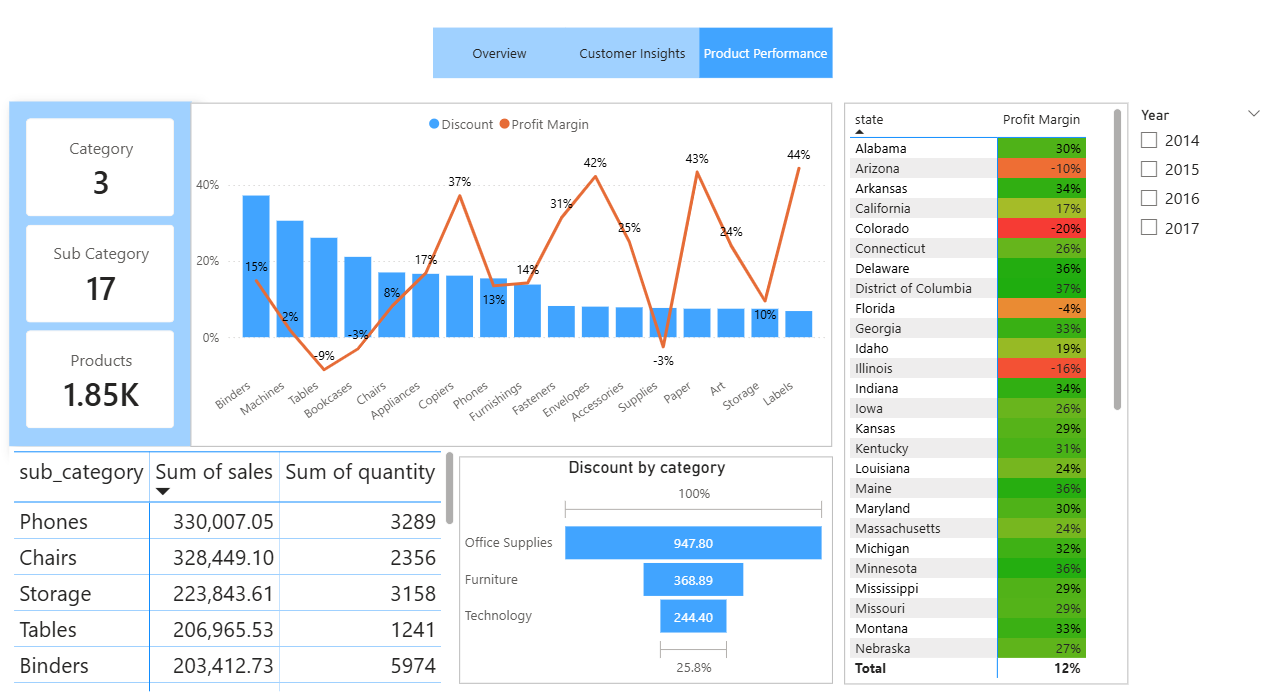

The dashboard page shown, as its layout file describes it:
{"tool":"powerbi","page":{"name":"Product Performance","canvas":[1280,720],"ordinal":2},"visuals":[{"type":"cardVisual","fields":{"Data":["Count(orders.category)","Count(orders.sub_category)","Count(orders.product_name)"]},"box":[15.9,117.4,214.5,584.1],"z":0},{"type":"pivotTable","fields":{"Rows":["orders.sub_category"],"Values":["Sum(orders.sales)","Sum(orders.quantity)"]},"box":[237.7,117.4,444.9,242],"z":1000},{"type":"clusteredColumnChart","title":"Profit by sub_category","fields":{"Category":["orders.sub_category"],"Y":["Sum(orders.profit)"]},"box":[237.8,372,664.6,329.3],"z":2000},{"type":"funnel","title":"Discount by category","fields":{"Category":["orders.category"],"Y":["Sum(orders.discount)"]},"box":[698.6,118.8,378.3,242],"z":3000},{"type":"slicer","fields":{"Values":["Date.Year"]},"box":[1077,119,203,242],"z":4000},{"type":"pageNavigator","box":[440.6,43.5,400,50.7],"z":5000},{"type":"lineStackedColumnComboChart","title":"Quantity and sales by state","fields":{"Category":["orders.state"],"Y":["Sum(orders.quantity)"],"Y2":["Sum(orders.sales)"]},"box":[902.4,372,376.8,329.3],"z":6000}]}

Visuals, with their boxes in screenshot pixels (x1, y1, x2, y2), scaled from the page's 1280x720 canvas onto the 1267x697 screenshot:
cardVisual - Count(orders.category) x Count(orders.sub_category): 16/114/228/679
pivotTable - orders.sub_category x Sum(orders.sales): 235/114/676/348
"Profit by sub_category" clusteredColumnChart: 235/360/893/679
"Discount by category" funnel: 692/115/1066/349
slicer - Date.Year: 1066/115/1266/349
pageNavigator: 436/42/832/91
"Quantity and sales by state" lineStackedColumnComboChart: 893/360/1266/679
